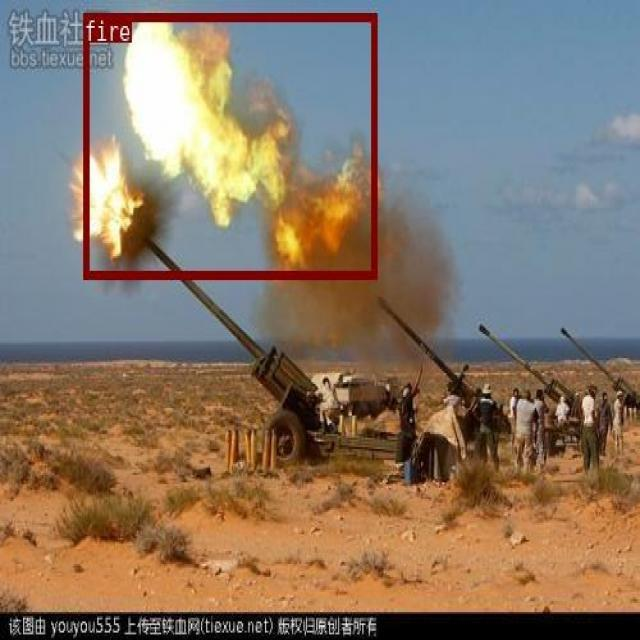fire: (83, 13, 376, 277)
